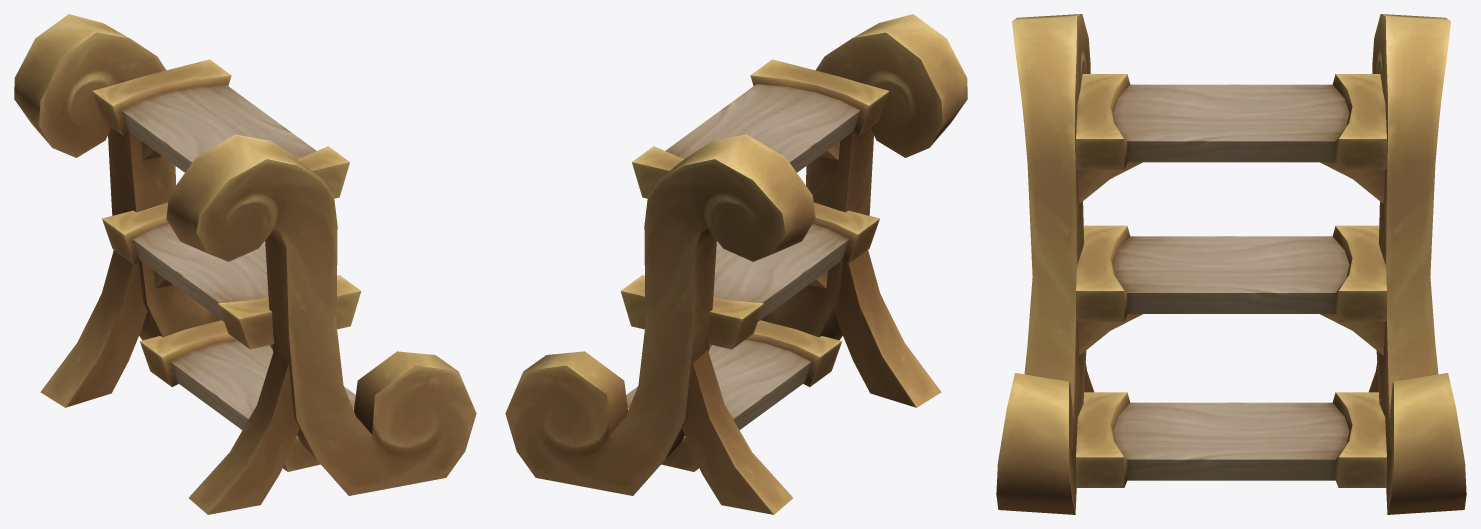
The picture shows the model from 3 angles, left to right: view 1: azimuth 30°, elevation 25°; view 2: azimuth 150°, elevation 25°; view 3: azimuth 270°, elevation 25°; orthographic projection. The views are drawn at different scales.
Bounding box in the file's own units: 1.29 × 1.62 × 1.73.
Materials: 1 (1 with a texture image).
